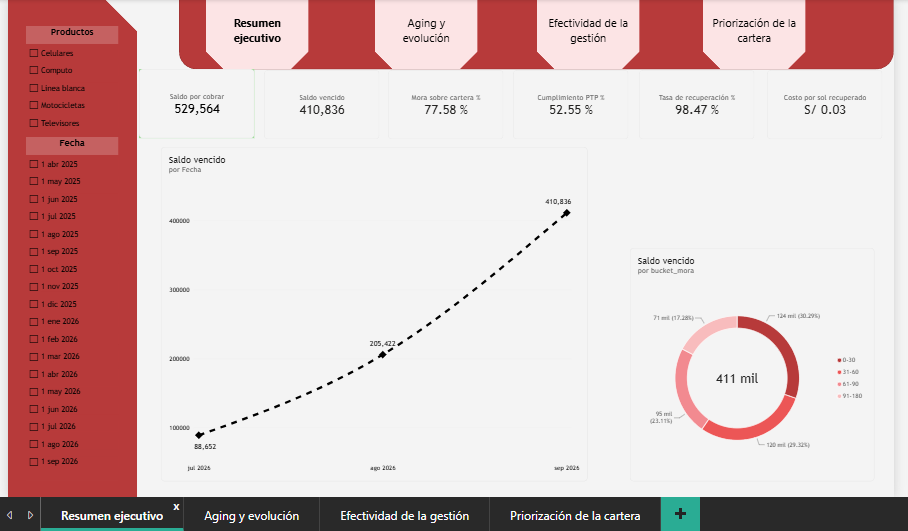

The page's visual inventory and layout, read from the dashboard file:
{"tool":"powerbi","page":{"name":"Resumen ejecutivo","canvas":[1920,1080],"ordinal":0},"visuals":[{"type":"shape","box":[370,0,1550,152.5],"z":0},{"type":"shape","box":[0,0,280,1080],"z":1000},{"type":"cardVisual","fields":{"Data":["_Medidas.Saldo por cobrar"]},"box":[285,152.5,250,150],"z":2000},{"type":"cardVisual","fields":{"Data":["_Medidas.Saldo vencido"]},"box":[555,154.6,250,150],"z":3000},{"type":"cardVisual","fields":{"Data":["_Medidas.Costo por sol recuperado"]},"box":[1646.4,153.2,250,150],"z":4000},{"type":"cardVisual","fields":{"Data":["_Medidas.Mora sobre cartera %"]},"box":[825,154.6,250,150],"z":5000},{"type":"cardVisual","fields":{"Data":["_Medidas.Tasa de recuperación %"]},"box":[1369.3,154.6,250,150],"z":6000},{"type":"cardVisual","fields":{"Data":["_Medidas.Cumplimiento PTP %"]},"box":[1095,153.2,250,150],"z":7000},{"type":"lineChart","fields":{"Category":["dim_fecha.anio_mes"],"Y":["_Medidas.Saldo vencido"]},"box":[332.5,320,925,725],"z":8000},{"type":"donutChart","fields":{"Category":["fct_mora_diaria.bucket_mora"],"Y":["_Medidas.Saldo vencido"]},"box":[1348,540,530,506],"z":9000},{"type":"slicer","title":"Productos","fields":{"Values":["dim_credito.producto_desc"]},"box":[40,58,200,242.5],"z":10000},{"type":"slicer","title":"Fecha","fields":{"Values":["dim_fecha.anio_mes"]},"box":[40,300,200,745],"z":11000},{"type":"shape","box":[430,0,222.5,152.5],"z":12000},{"type":"shape","box":[795,0,222.5,152.5],"z":13000},{"type":"shape","box":[1147.5,0,222.5,152.5],"z":14000},{"type":"shape","box":[1507.5,0,222.5,152.5],"z":15000}]}

Visuals, with their boxes on the page's 1920x1080 design canvas (x1, y1, x2, y2). These are canvas units, not pixel positions in the 908x531 screenshot, which may show the page scaled, cropped or inside an application window:
shape: <box>370,0,1920,152</box>
shape: <box>0,0,280,1080</box>
cardVisual - _Medidas.Saldo por cobrar: <box>285,152,535,302</box>
cardVisual - _Medidas.Saldo vencido: <box>555,155,805,305</box>
cardVisual - _Medidas.Costo por sol recuperado: <box>1646,153,1896,303</box>
cardVisual - _Medidas.Mora sobre cartera %: <box>825,155,1075,305</box>
cardVisual - _Medidas.Tasa de recuperación %: <box>1369,155,1619,305</box>
cardVisual - _Medidas.Cumplimiento PTP %: <box>1095,153,1345,303</box>
lineChart - dim_fecha.anio_mes x _Medidas.Saldo vencido: <box>332,320,1258,1045</box>
donutChart - fct_mora_diaria.bucket_mora x _Medidas.Saldo vencido: <box>1348,540,1878,1046</box>
"Productos" slicer: <box>40,58,240,300</box>
"Fecha" slicer: <box>40,300,240,1045</box>
shape: <box>430,0,652,152</box>
shape: <box>795,0,1018,152</box>
shape: <box>1148,0,1370,152</box>
shape: <box>1508,0,1730,152</box>
